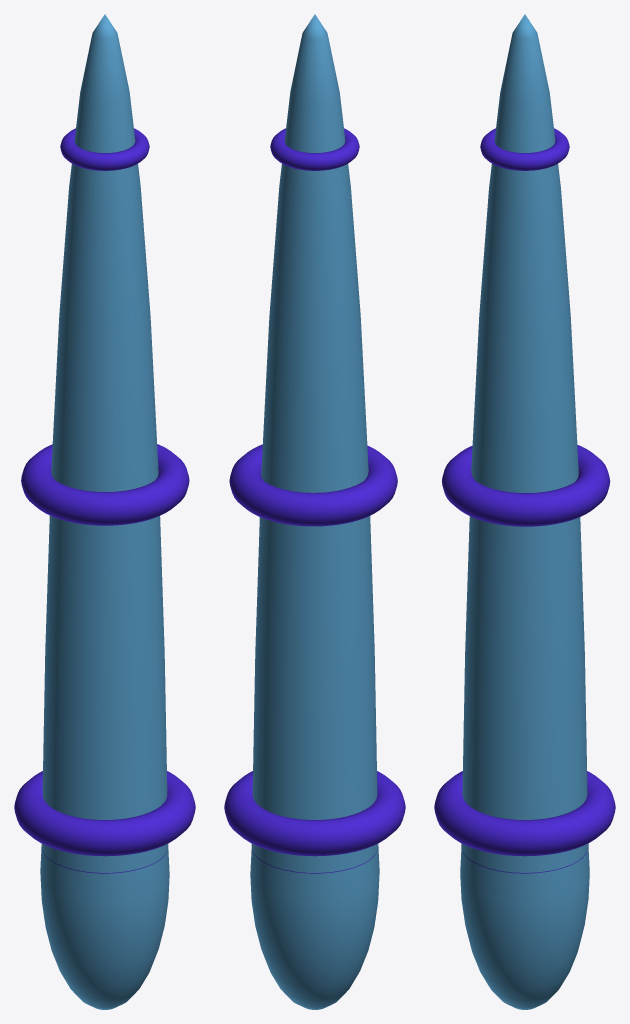
Rendered from barrier_pole.dae.
3 views of the same model, side by side, from view 1: azimuth 30°, elevation 25°; view 2: azimuth 150°, elevation 25°; view 3: azimuth 270°, elevation 25° (orthographic).
Parts seen in each view (by area): view 1: Sphere; view 2: Sphere; view 3: Sphere.
Part boxes in pixels (x1=…): Sphere: x1=14, y1=14, x2=195, y2=1009; Sphere: x1=224, y1=14, x2=405, y2=1009; Sphere: x1=434, y1=14, x2=615, y2=1009.
Bounding box in the file's own units: 1.23 × 1.23 × 7.4.
